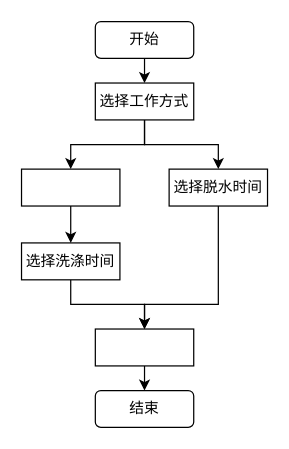
Image size: 289x449. Some labels were removed from this diagram. Here are the shapes that lost their labels. From the top down, the centre of each, then its label:
At pixel 70 187: "选择洗涤强度".
At pixel 144 347: "开始工作".
